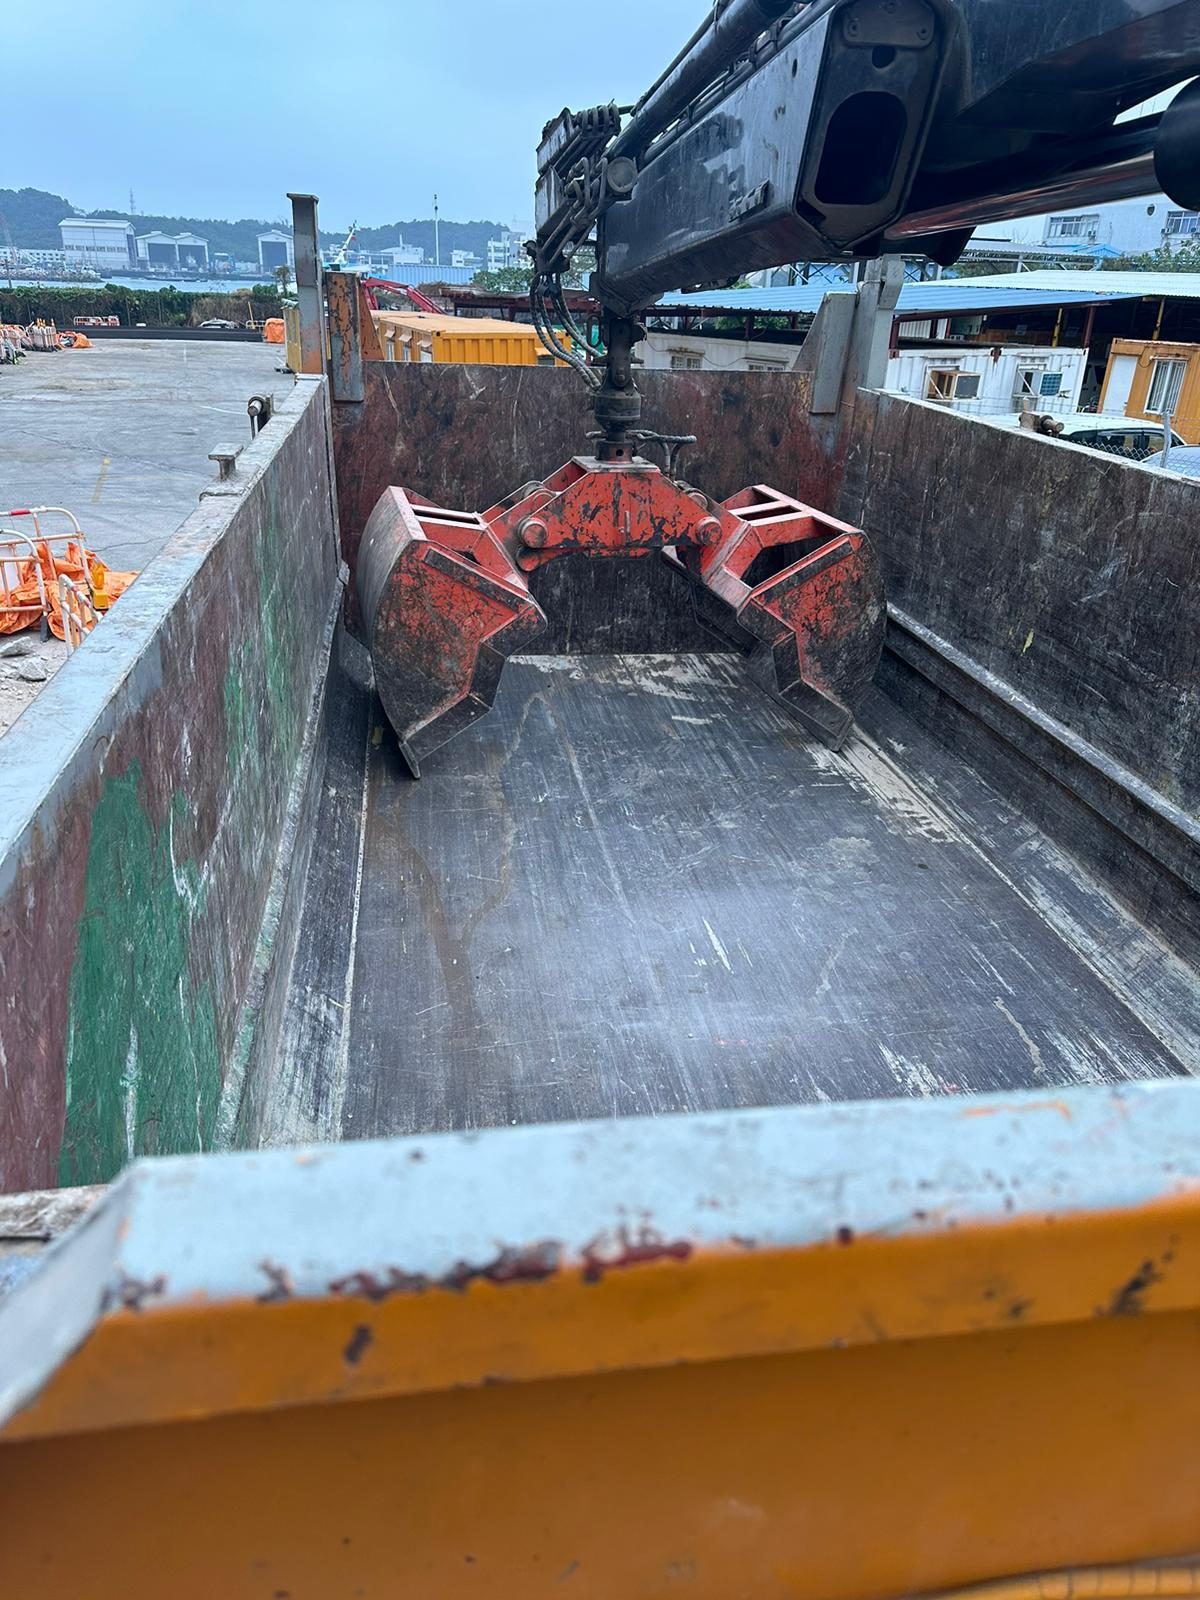nothing: (355, 658, 1168, 1130)
